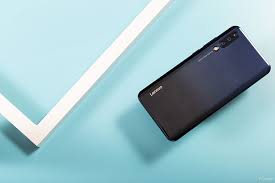lenovo: (134, 24, 270, 143)
